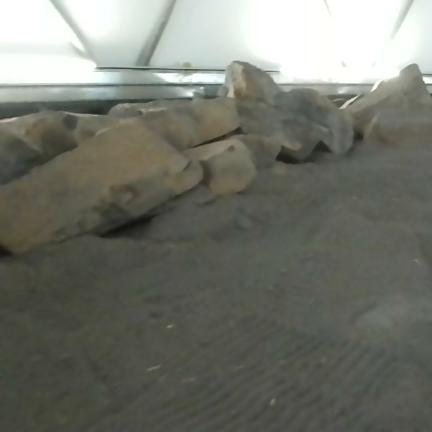Rock: (0, 125, 202, 253), (0, 111, 118, 184), (122, 98, 239, 150), (344, 64, 431, 133), (237, 101, 329, 160), (276, 89, 353, 155), (188, 140, 256, 196), (220, 61, 281, 104), (364, 110, 431, 148), (108, 100, 190, 118)
